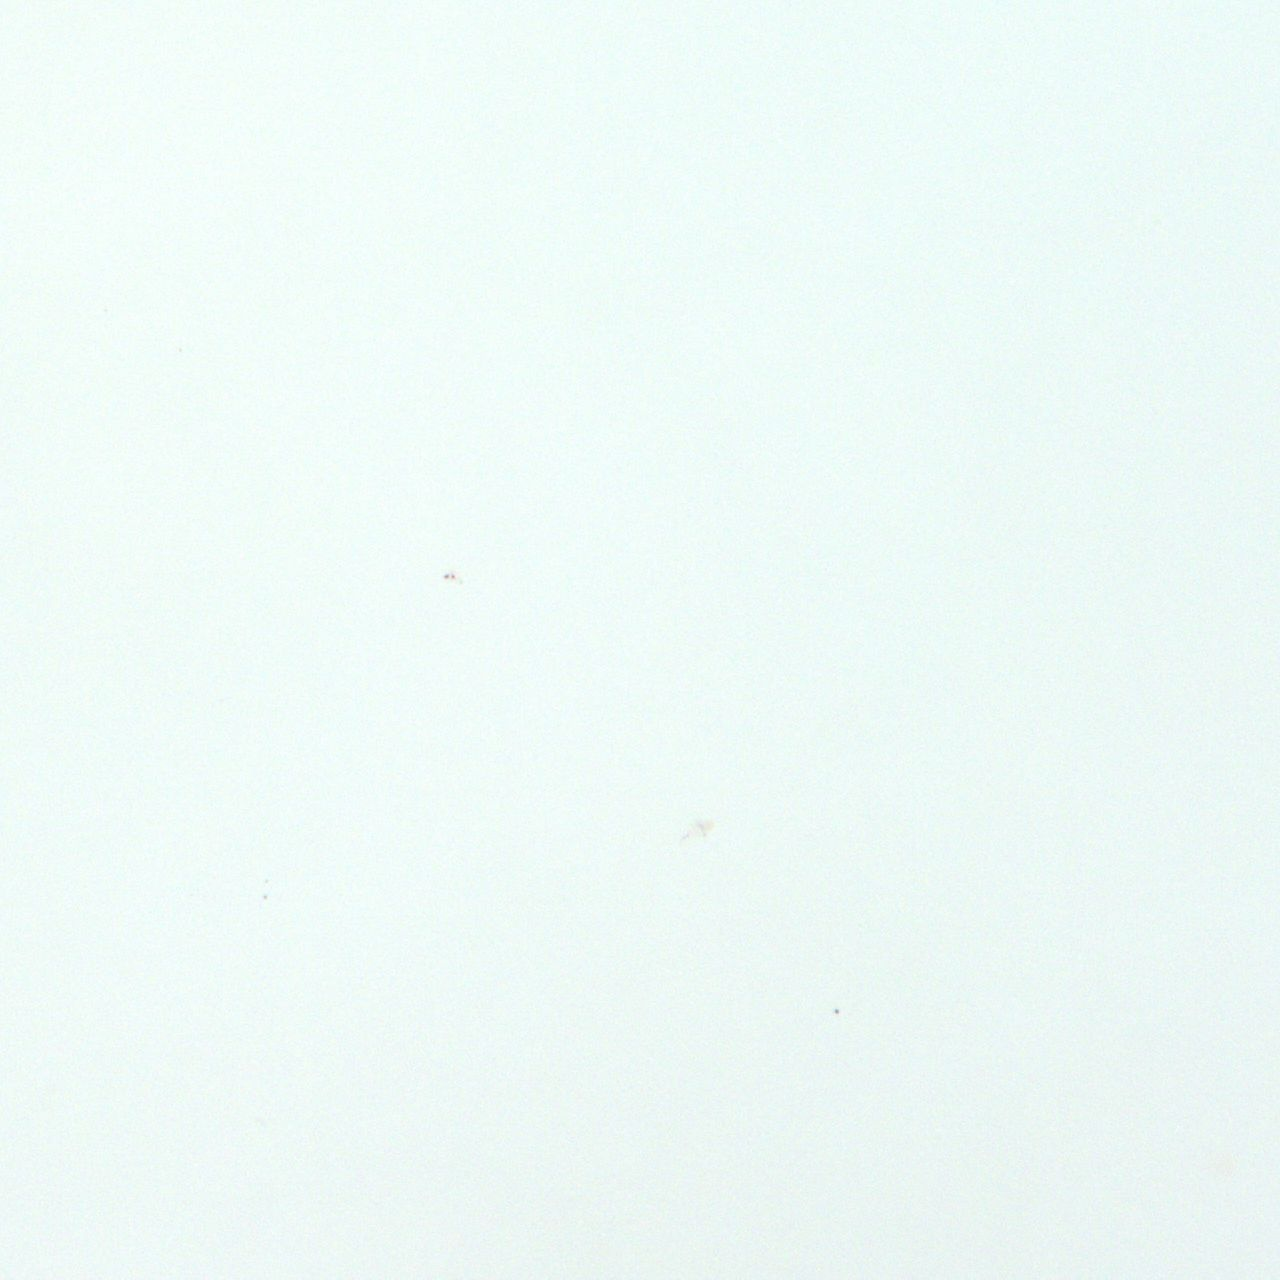dust: (442, 573, 456, 578)
